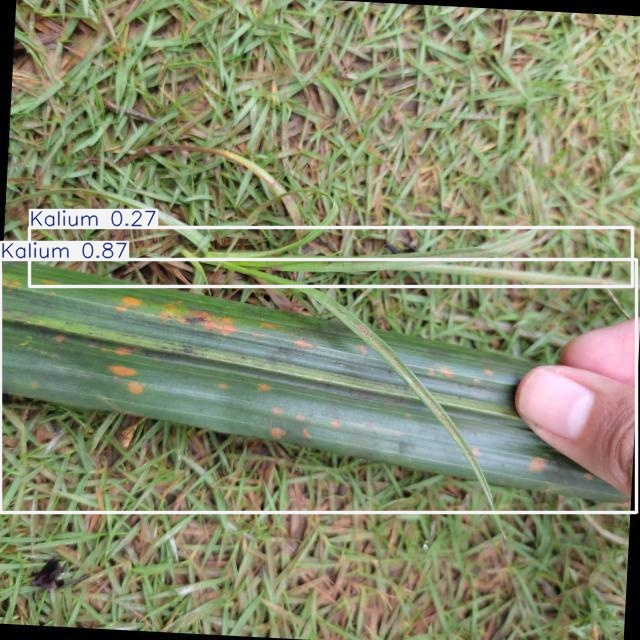Kalium: (0, 260, 636, 513), (30, 227, 633, 286)
